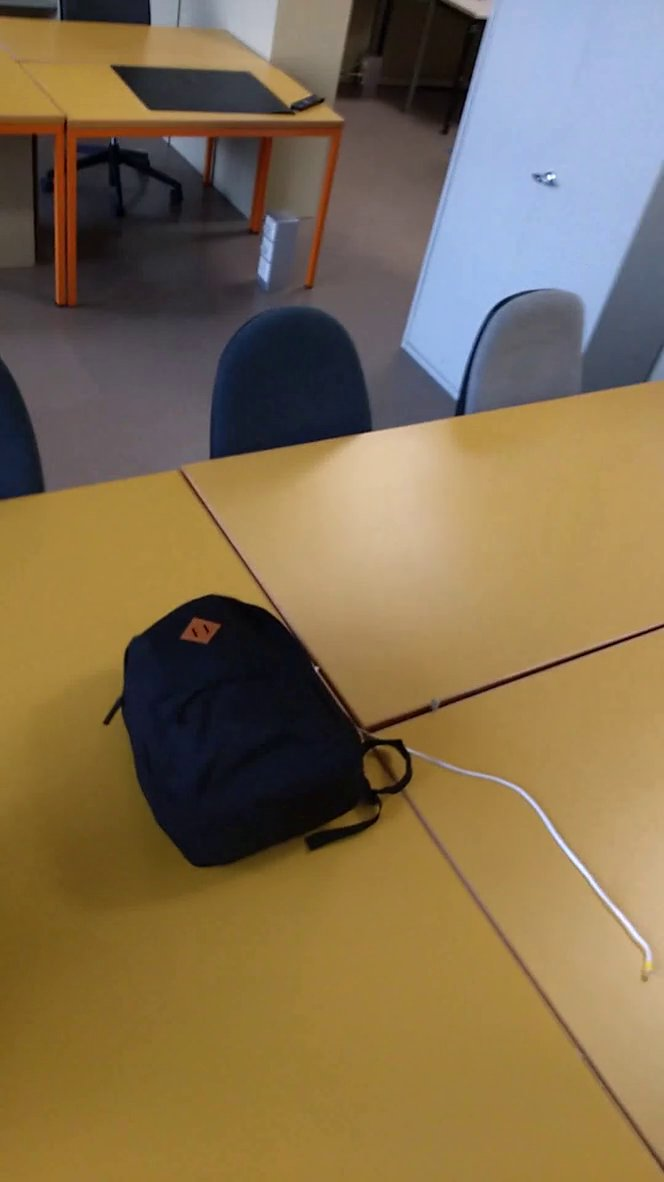bag: (98, 589, 430, 881)
chair: (201, 297, 387, 466), (447, 272, 597, 429)
